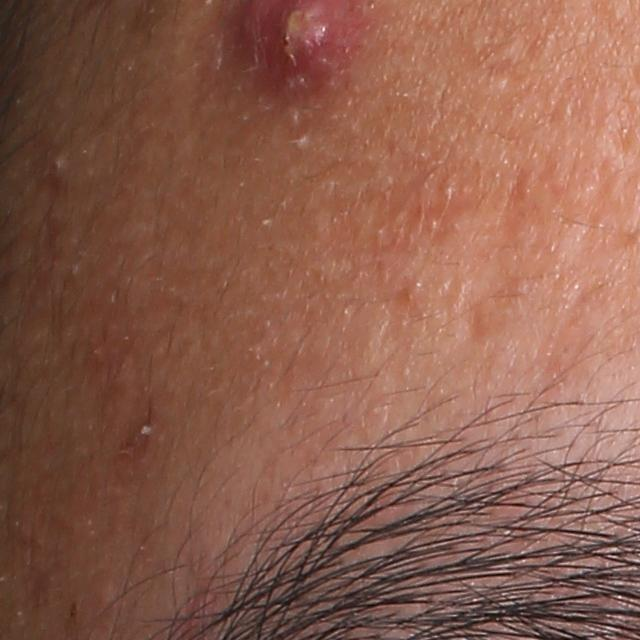comedo: (42, 147, 71, 187), (291, 129, 316, 156), (489, 68, 512, 93)
